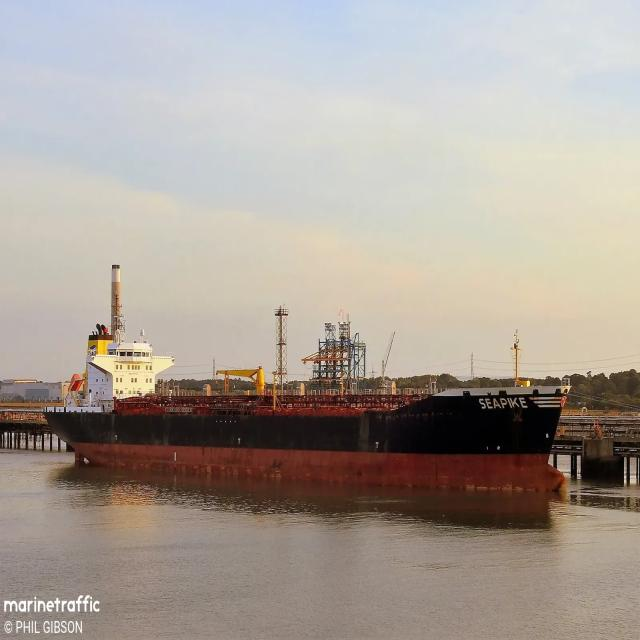Tanker: (44, 325, 566, 490)
